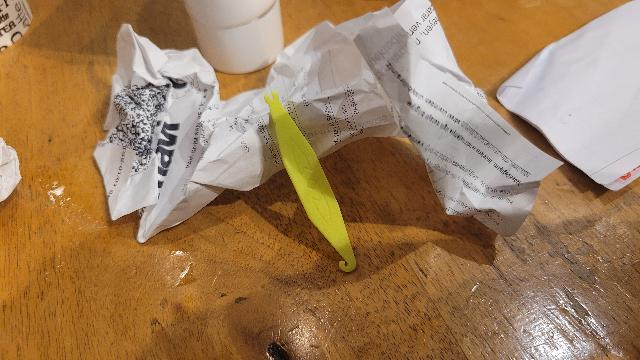Kagit: (92, 17, 566, 268), (492, 0, 640, 197)
Plastik: (256, 84, 365, 283)
